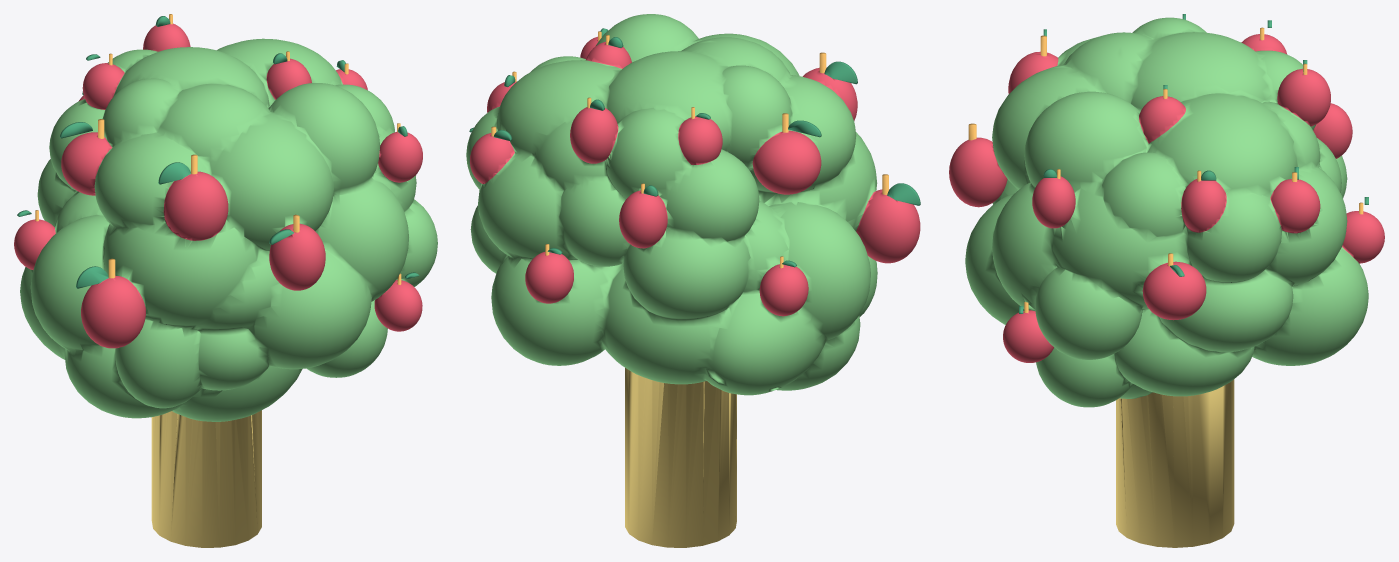
File: level10.glb
The picture shows the model from 3 angles, left to right: view 1: azimuth 30°, elevation 25°; view 2: azimuth 150°, elevation 25°; view 3: azimuth 270°, elevation 25°; orthographic projection. The views are drawn at different scales.
Visible parts, largest first — view 1: obj_0.021; view 2: obj_0.021; view 3: obj_0.021.
Part boxes in pixels (x1,y1,x2,y2): obj_0.021: (14, 14, 437, 547); obj_0.021: (466, 14, 920, 547); obj_0.021: (949, 14, 1384, 547).
Bounding box in the file's own units: 86 × 98 × 81.
